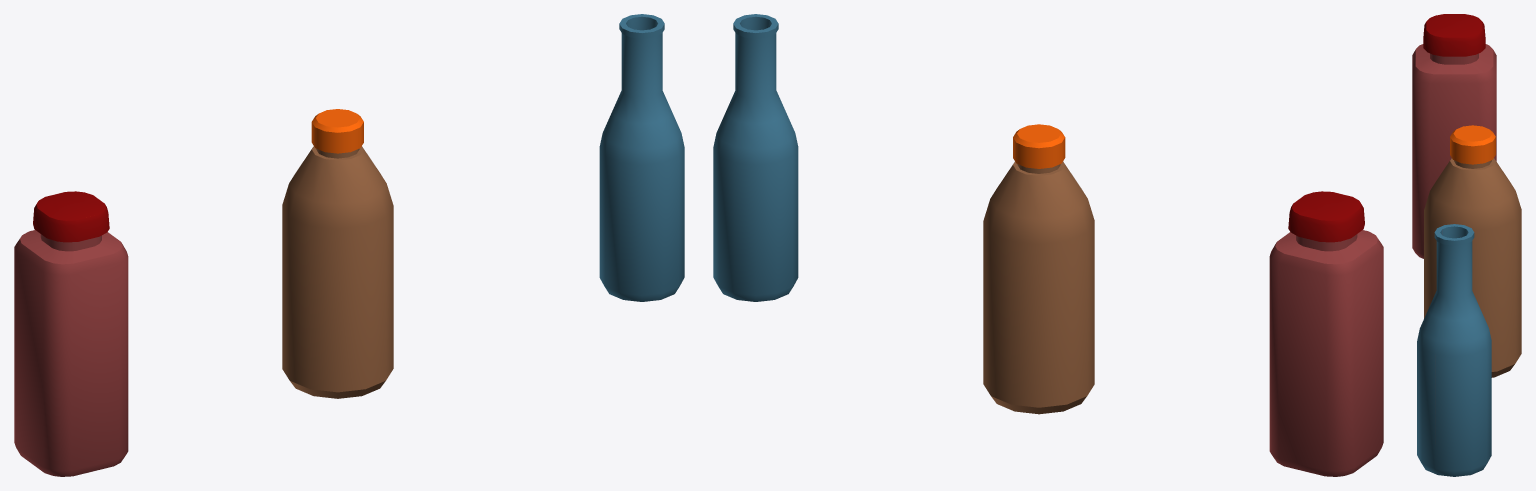
Rendered from Factory_Glass_Bottles.fbx.
The picture shows the model from 3 angles, left to right: view 1: azimuth 30°, elevation 25°; view 2: azimuth 150°, elevation 25°; view 3: azimuth 270°, elevation 25°; orthographic projection. The views are drawn at different scales.
Parts seen in each view (by area): view 1: Bottle3, Bottle2, Bottle1; view 2: Bottle3, Bottle2, Bottle1; view 3: Bottle1, Bottle2, Bottle3.
Part boxes in pixels (box(x1,y1,x2,y2)): Bottle3: box(14, 191, 128, 476); Bottle2: box(282, 109, 393, 398); Bottle1: box(599, 14, 684, 301); Bottle3: box(1269, 191, 1383, 476); Bottle2: box(983, 124, 1094, 414); Bottle1: box(713, 14, 798, 301); Bottle1: box(1417, 224, 1491, 476); Bottle2: box(1424, 125, 1521, 377); Bottle3: box(1412, 14, 1496, 258).
Size of the model in its own units: 101 by 43.82 by 16.78.
1 material, 1 textured.
